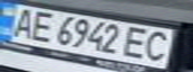2: (100, 21, 127, 56)
4: (87, 19, 109, 53)
6: (51, 14, 75, 47)
9: (69, 16, 90, 50)
A: (3, 6, 42, 39)
C: (139, 29, 178, 62)
E: (121, 25, 154, 60), (24, 9, 57, 43)
